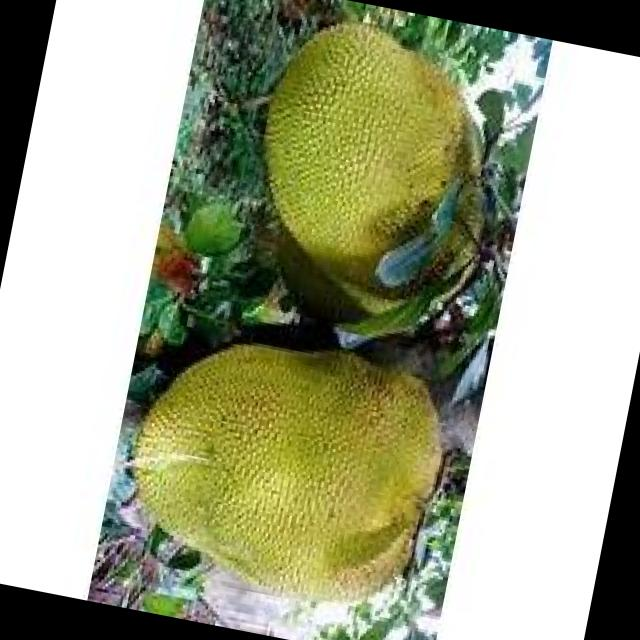Fruit: (96, 290, 476, 640), (214, 0, 507, 333)
